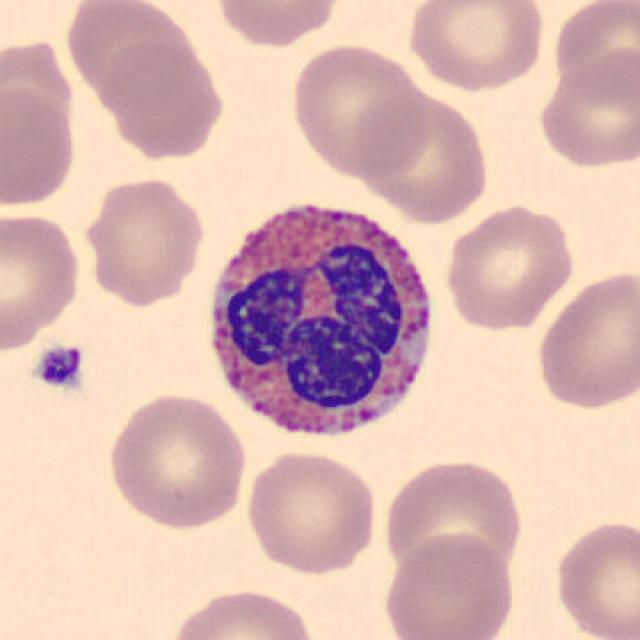Eosinophil: (196, 185, 448, 457)
Platelets: (32, 341, 85, 392)
RBC: (103, 390, 251, 532), (286, 39, 432, 180), (356, 84, 494, 226), (379, 455, 526, 580), (441, 201, 578, 333), (242, 448, 380, 576), (80, 173, 208, 307), (102, 37, 228, 165), (532, 266, 638, 413), (60, 0, 202, 109), (381, 529, 519, 640), (403, 0, 547, 93), (534, 48, 638, 171), (0, 207, 85, 354), (550, 515, 638, 640), (0, 32, 80, 160), (0, 83, 80, 208), (548, 0, 638, 108), (165, 583, 319, 640), (211, 0, 348, 49)
